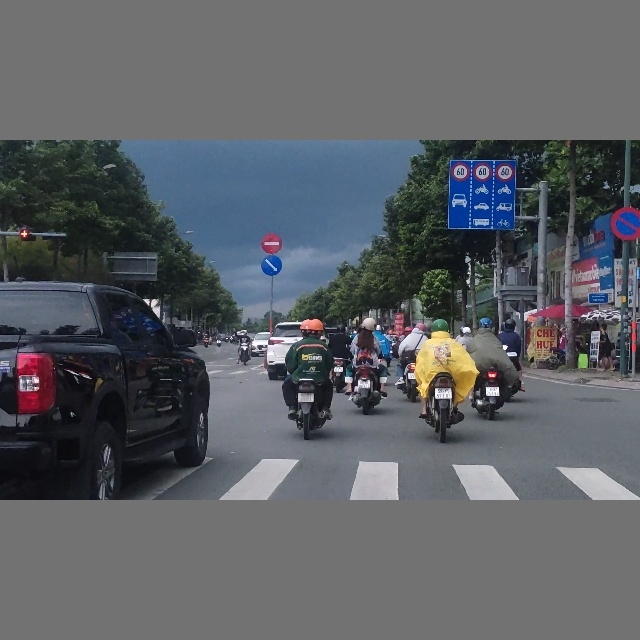P.102: (261, 233, 283, 254)
P.131a: (608, 206, 640, 240)
R.302a: (261, 254, 282, 275)
R.415a: (448, 159, 516, 230)
